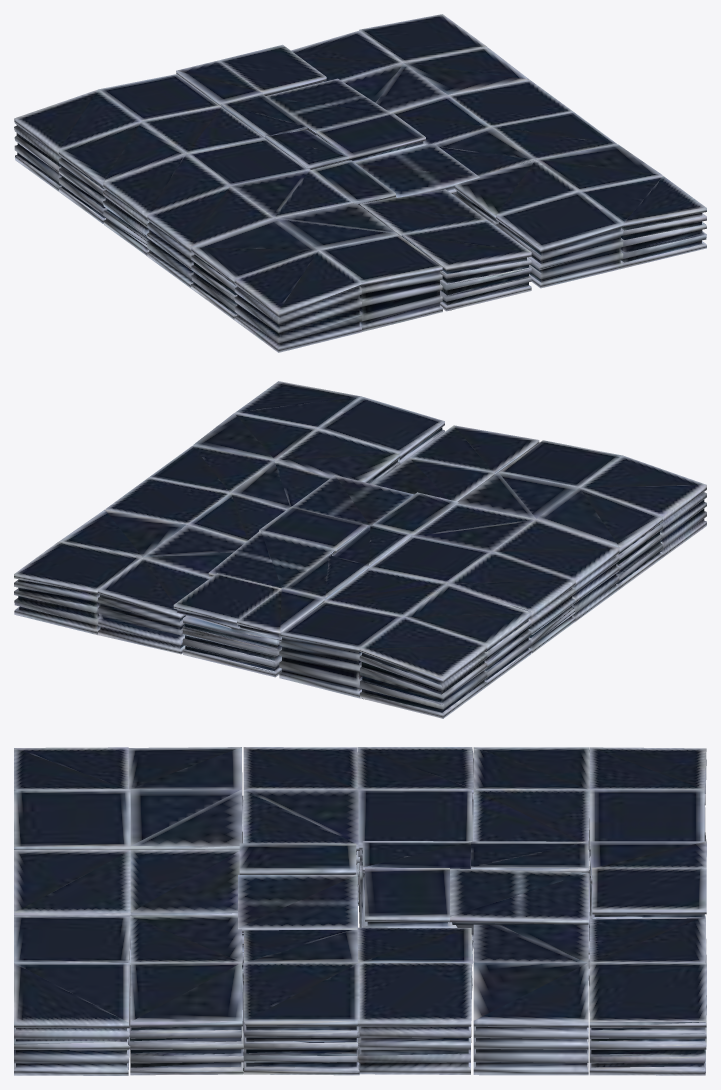
Rendered from 23-solar-panel-field.glb.
The picture shows the model from 3 angles, top to bottom: view 1: azimuth 30°, elevation 25°; view 2: azimuth 150°, elevation 25°; view 3: azimuth 270°, elevation 25°; orthographic projection. The views are drawn at different scales.
Visible parts, largest first — view 1: geometry_0; view 2: geometry_0; view 3: geometry_0.
Boxes of the visible parts, box(x1,y1,x2,y2) form: geometry_0: box(14, 14, 706, 352); geometry_0: box(14, 381, 706, 718); geometry_0: box(14, 747, 706, 1075).
Bounding box in the file's own units: 0.8892 × 0.1006 × 0.9512.
Materials: 1 (1 with a texture image).
